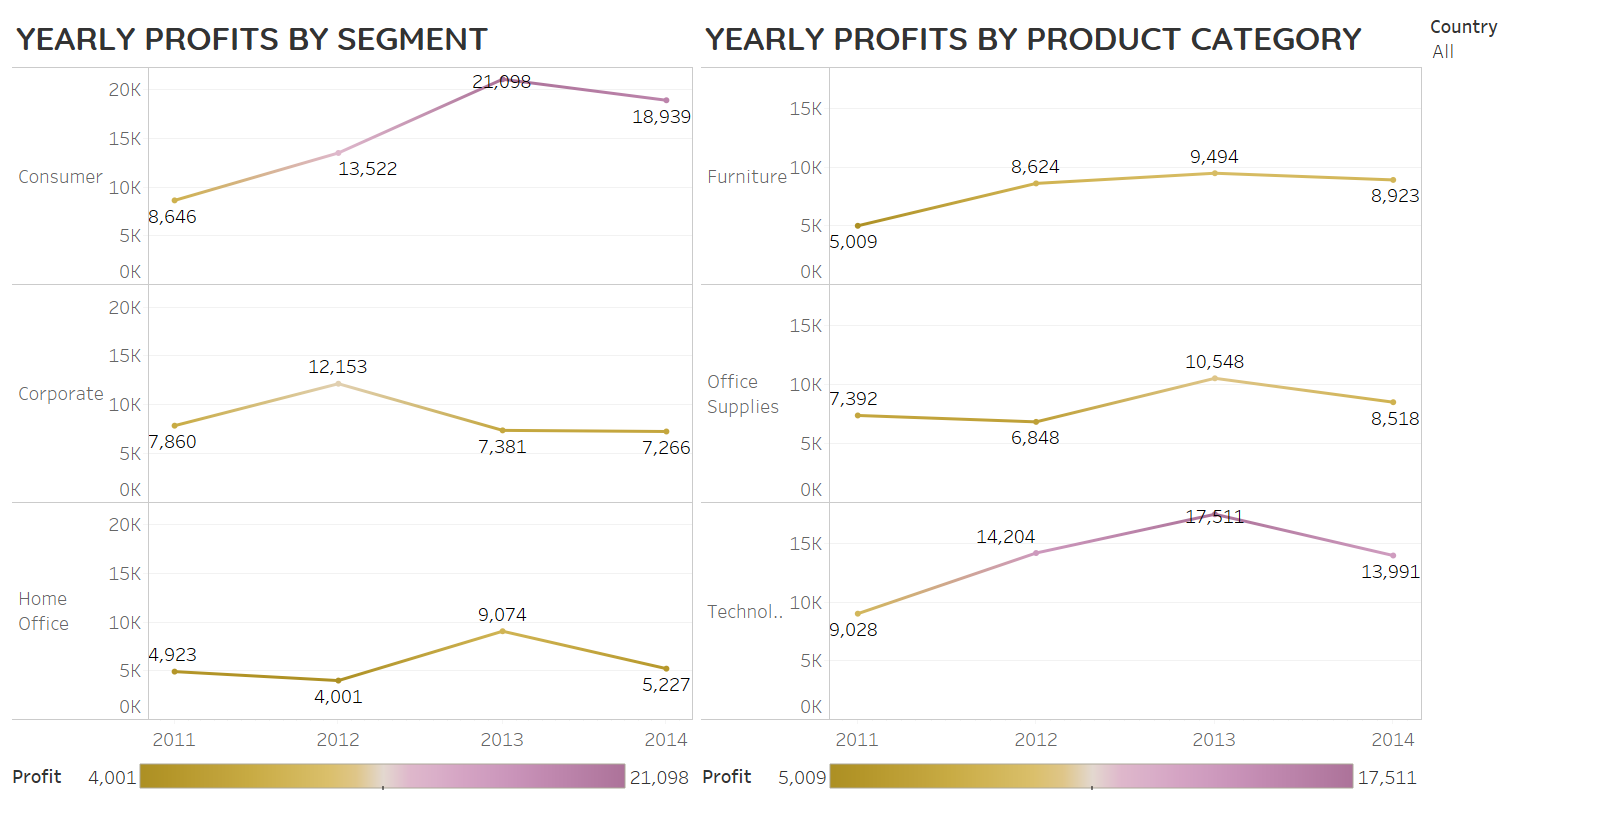

Layout of this report page (visuals, bound fields, positions):
{"tool":"tableau","page":{"name":"Dashboard 2","canvas":[1000,1000],"units":"permille","ordinal":1},"visuals":[{"type":"worksheet","box":[0,0,1000,1000]},{"type":"worksheet","param":"vert","box":[5,9.8,990,980.4]},{"type":"worksheet","param":"vert","box":[5,9.8,990,980.4]},{"type":"worksheet","box":[5,9.8,990,980.4]},{"type":"worksheet","param":"horz","box":[5,9.8,990,914.4]},{"type":"worksheet","box":[5,9.8,990,914.4]},{"type":"worksheet","title":"Yearly Profits by Segment","mark":"Automatic","rows":["Segment","Profit"],"cols":["Order Date"],"box":[5,9.8,429.6,914.4]},{"type":"worksheet","title":"Yearly Profits by Product Category","mark":"Automatic","rows":["Category","Profit"],"cols":["Order Date"],"box":[434.6,9.8,454.5,914.4]},{"type":"worksheet","param":"vert","box":[889.1,9.8,105.9,914.4]},{"type":"worksheet","title":"Yearly Profits by Segment","mark":"Automatic","rows":["Segment","Profit"],"cols":["Order Date"],"param":"[federated.042z3qs0qvl95216848ib0g7yf3s].[none:Country:nk]","box":[889.1,9.8,105.9,125.9]},{"type":"worksheet","title":"Yearly Profits by Segment","mark":"Automatic","rows":["Segment","Profit"],"cols":["Order Date"],"param":"[federated.042z3qs0qvl95216848ib0g7yf3s].[sum:Profit:qk]","box":[5,924.2,429.9,66]},{"type":"worksheet","title":"Yearly Profits by Product Category","mark":"Automatic","rows":["Category","Profit"],"cols":["Order Date"],"param":"[federated.042z3qs0qvl95216848ib0g7yf3s].[sum:Profit:qk]","box":[434.9,924.2,454.2,66]},{"type":"worksheet","box":[889.1,924.2,105.9,66]}]}

Visuals, with their boxes on the dashboard's canvas, which has no fixed pixel size, in thousandths of its width and height (x1, y1, x2, y2). These are canvas units, not pixel positions in the 1604x818 screenshot, which may show the page scaled, cropped or inside an application window:
worksheet: [x1=0, y1=0, x2=1000, y2=1000]
worksheet: [x1=5, y1=10, x2=995, y2=990]
worksheet: [x1=5, y1=10, x2=995, y2=990]
worksheet: [x1=5, y1=10, x2=995, y2=990]
worksheet: [x1=5, y1=10, x2=995, y2=924]
worksheet: [x1=5, y1=10, x2=995, y2=924]
"Yearly Profits by Segment" worksheet: [x1=5, y1=10, x2=435, y2=924]
"Yearly Profits by Product Category" worksheet: [x1=435, y1=10, x2=889, y2=924]
worksheet: [x1=889, y1=10, x2=995, y2=924]
"Yearly Profits by Segment" worksheet: [x1=889, y1=10, x2=995, y2=136]
"Yearly Profits by Segment" worksheet: [x1=5, y1=924, x2=435, y2=990]
"Yearly Profits by Product Category" worksheet: [x1=435, y1=924, x2=889, y2=990]
worksheet: [x1=889, y1=924, x2=995, y2=990]
